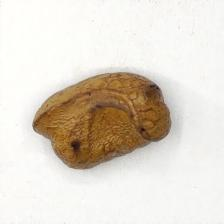NG: (35, 92, 154, 157)
